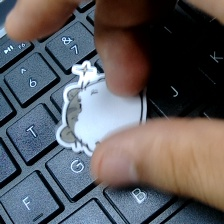mouse: (57, 59, 166, 166)
